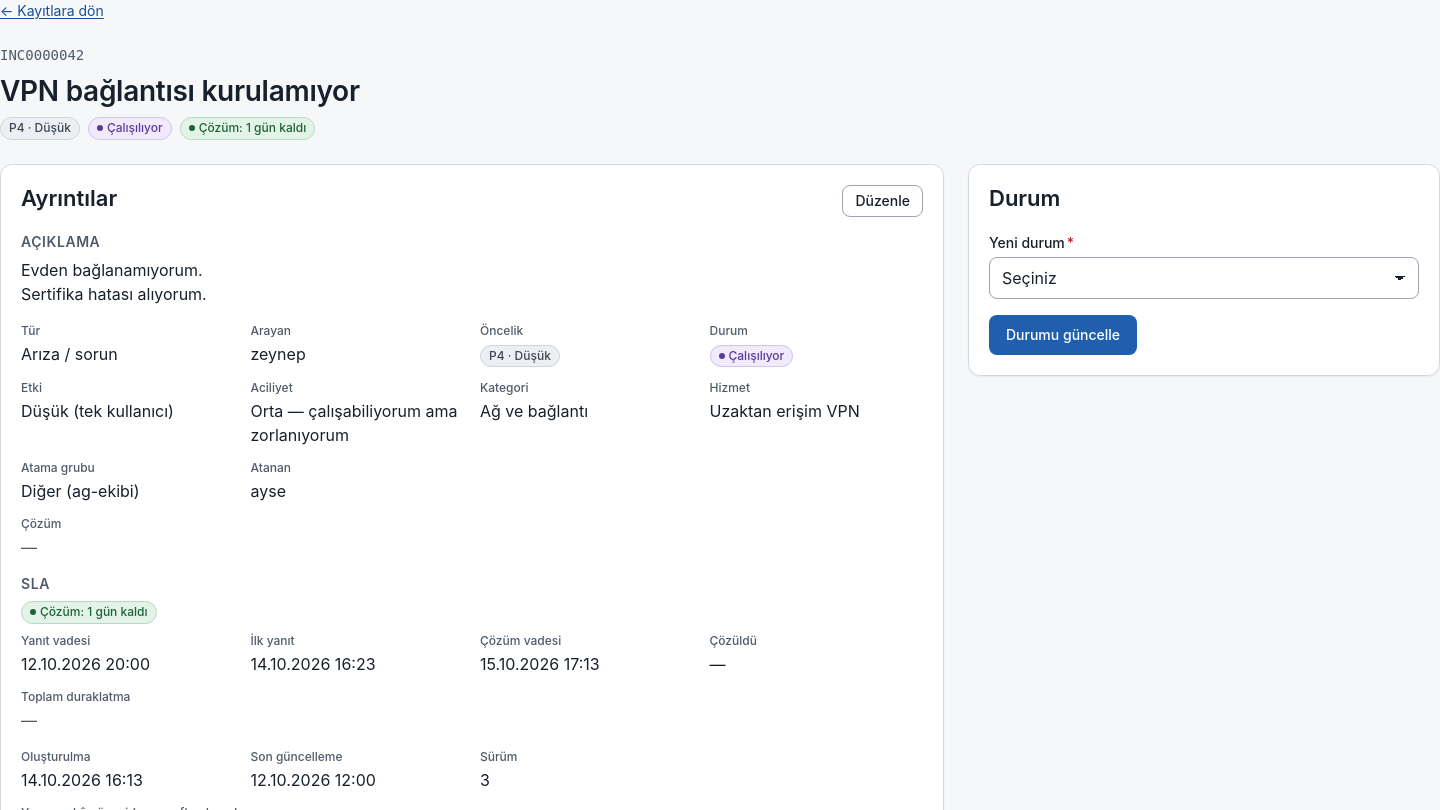
Test case: IncidentDetailPage — düzenleme (optimistik kilit) › 409: "kayıt başkası tarafından değişti" penceresi ve güncel kaydı yükleme
Click the button "Düzenle" at (883, 201), box [842,185,923,217]
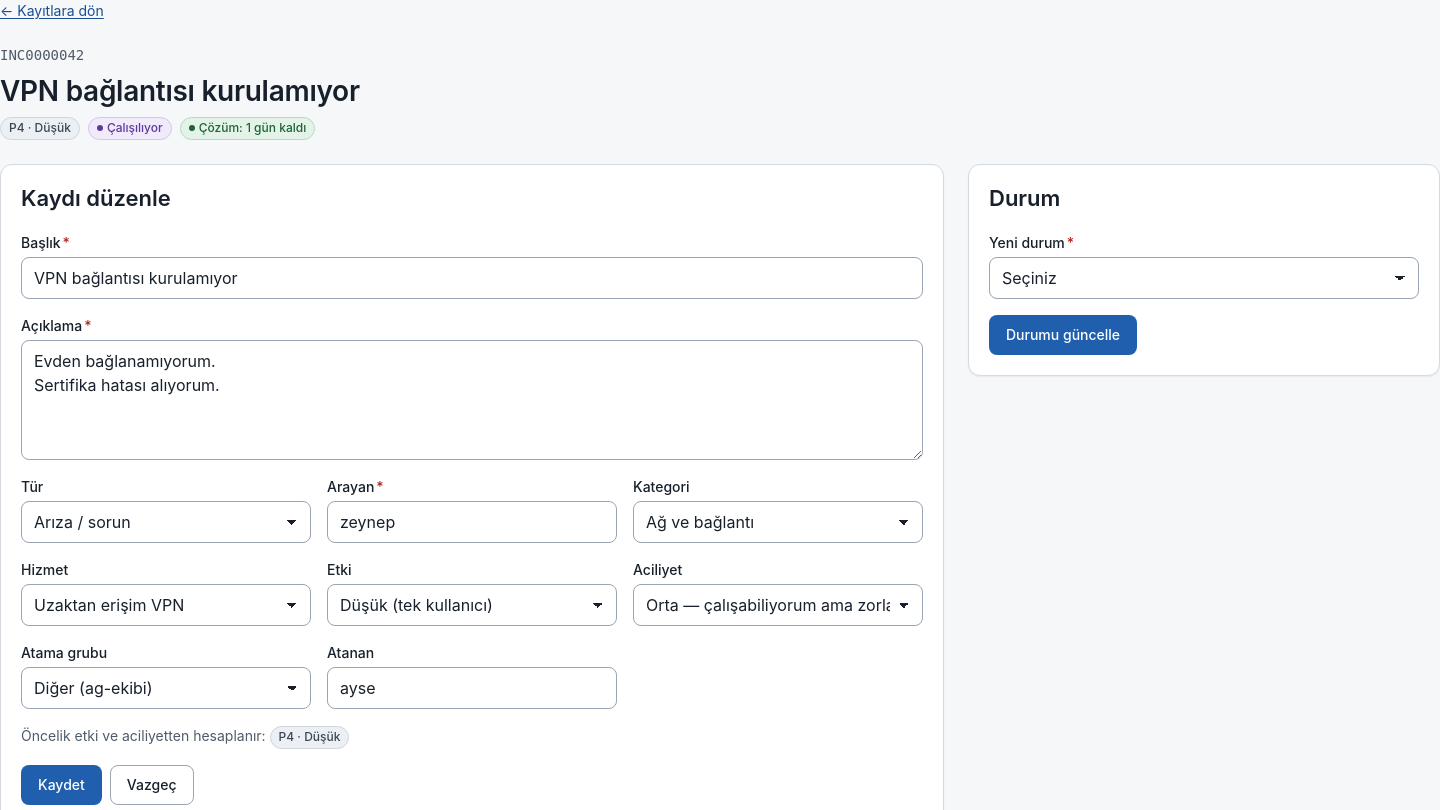
Select "Yüksek — işim tamamen durdu" in the dropdown labelled "Aciliyet" at (778, 605), box [633,584,923,626]
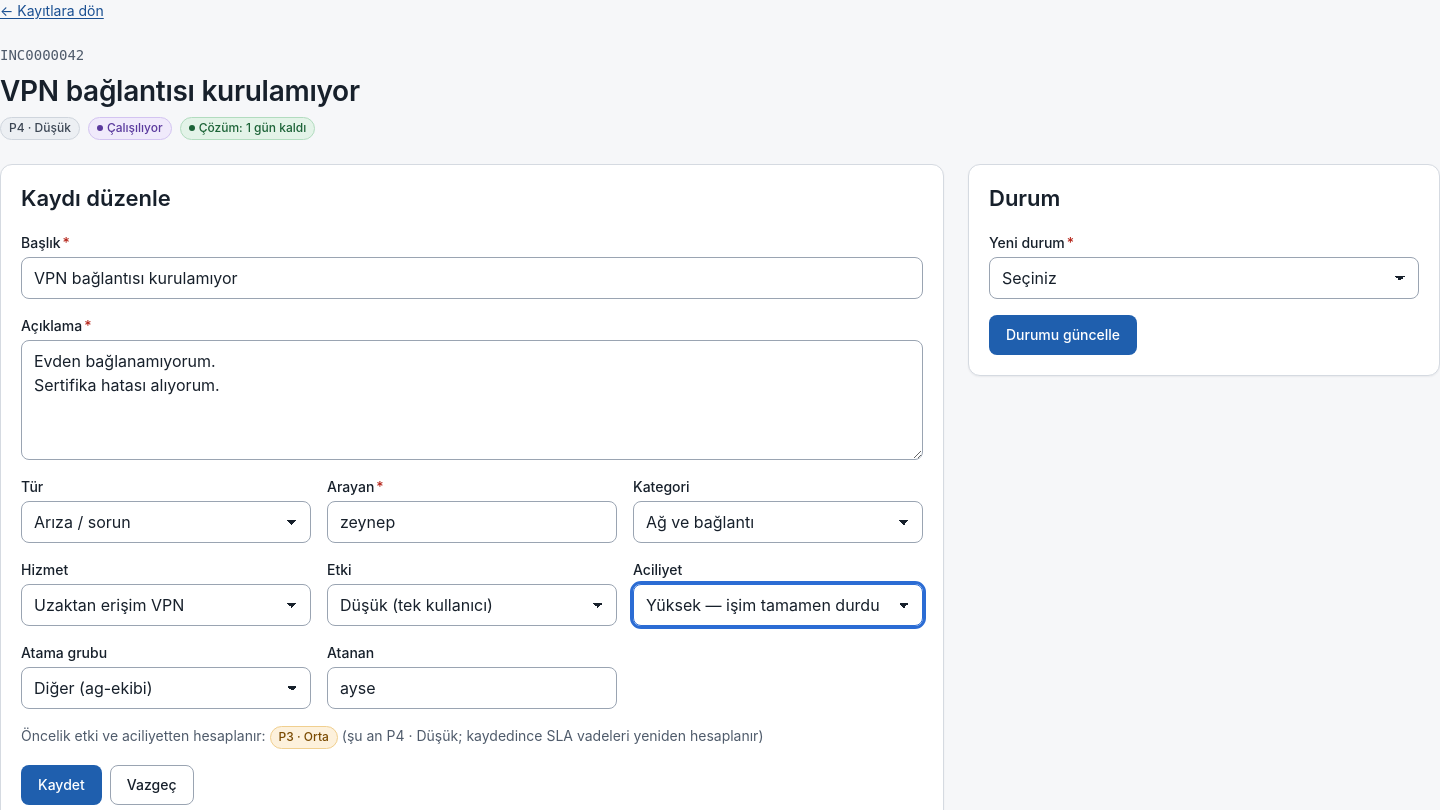
Click the button "Kaydet" at (61, 785), box [21,765,102,805]
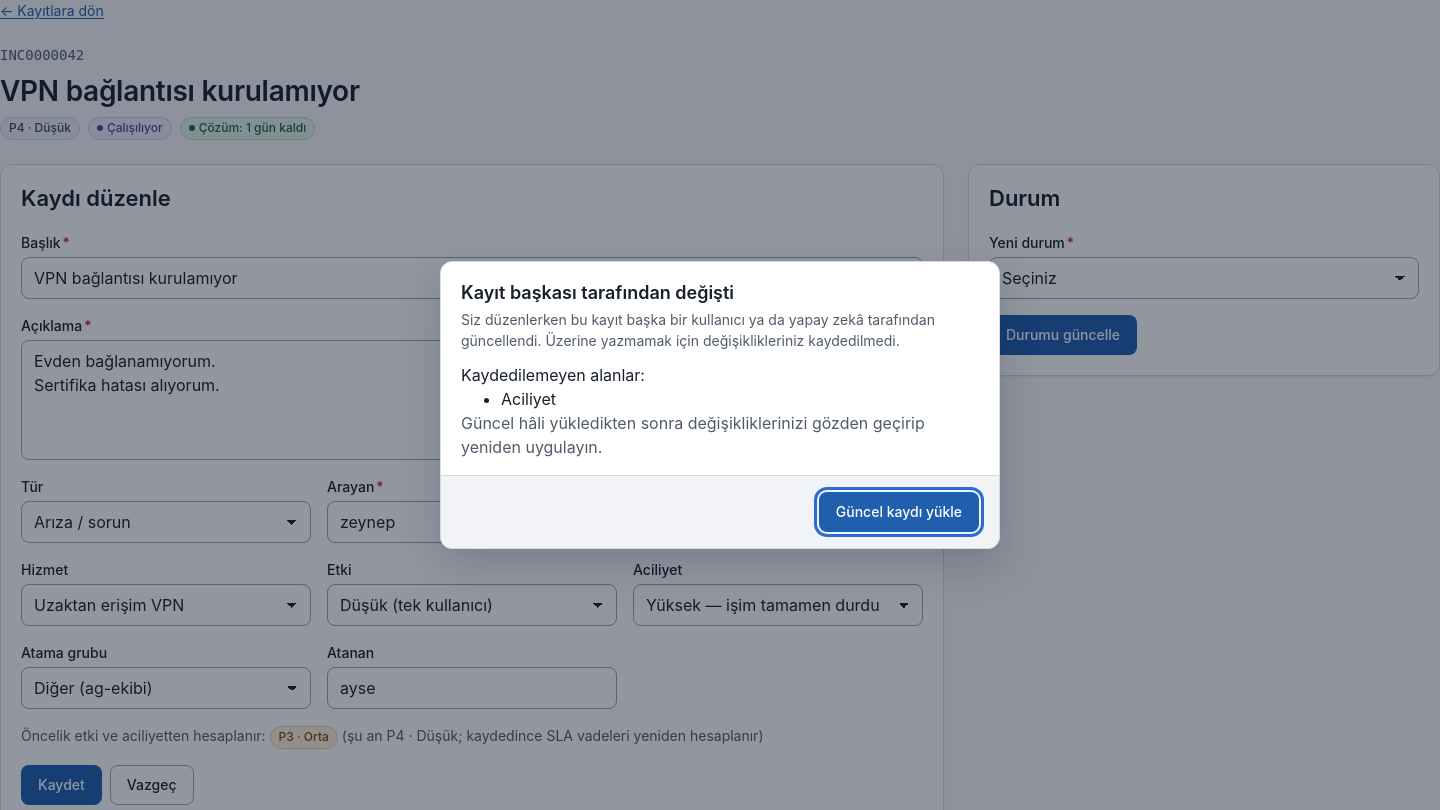
Now the list item "Aciliyet" is shown, box [501,389,556,409]
Click the button "Güncel kaydı yükle" at (899, 512), box [819,492,979,532]
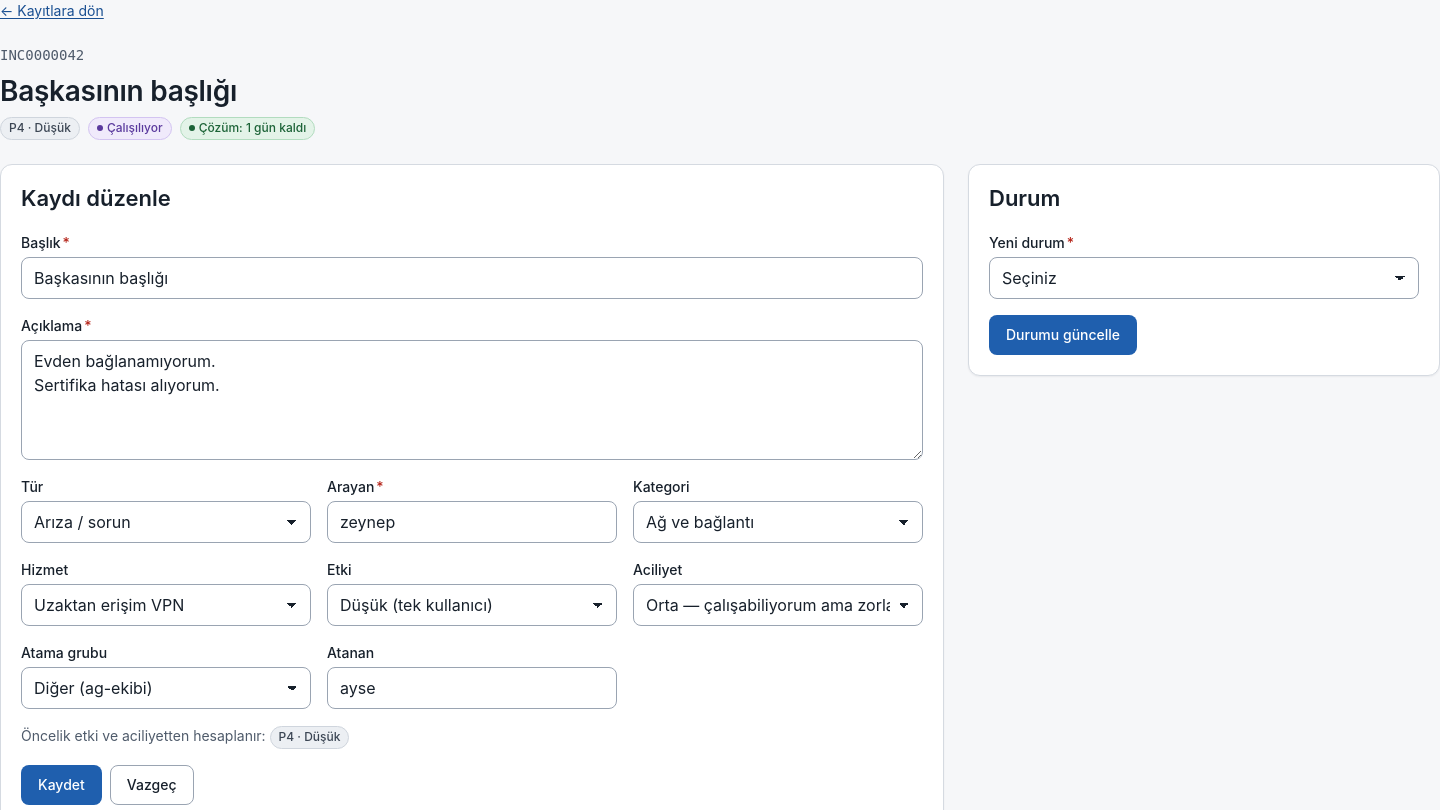
Now the dialog is gone
Now the field labelled "Başlık*" holds "Başkasının başlığı", box [21,257,923,299]
Select "Yüksek — işim tamamen durdu" in the dropdown labelled "Aciliyet" at (778, 605), box [633,584,923,626]
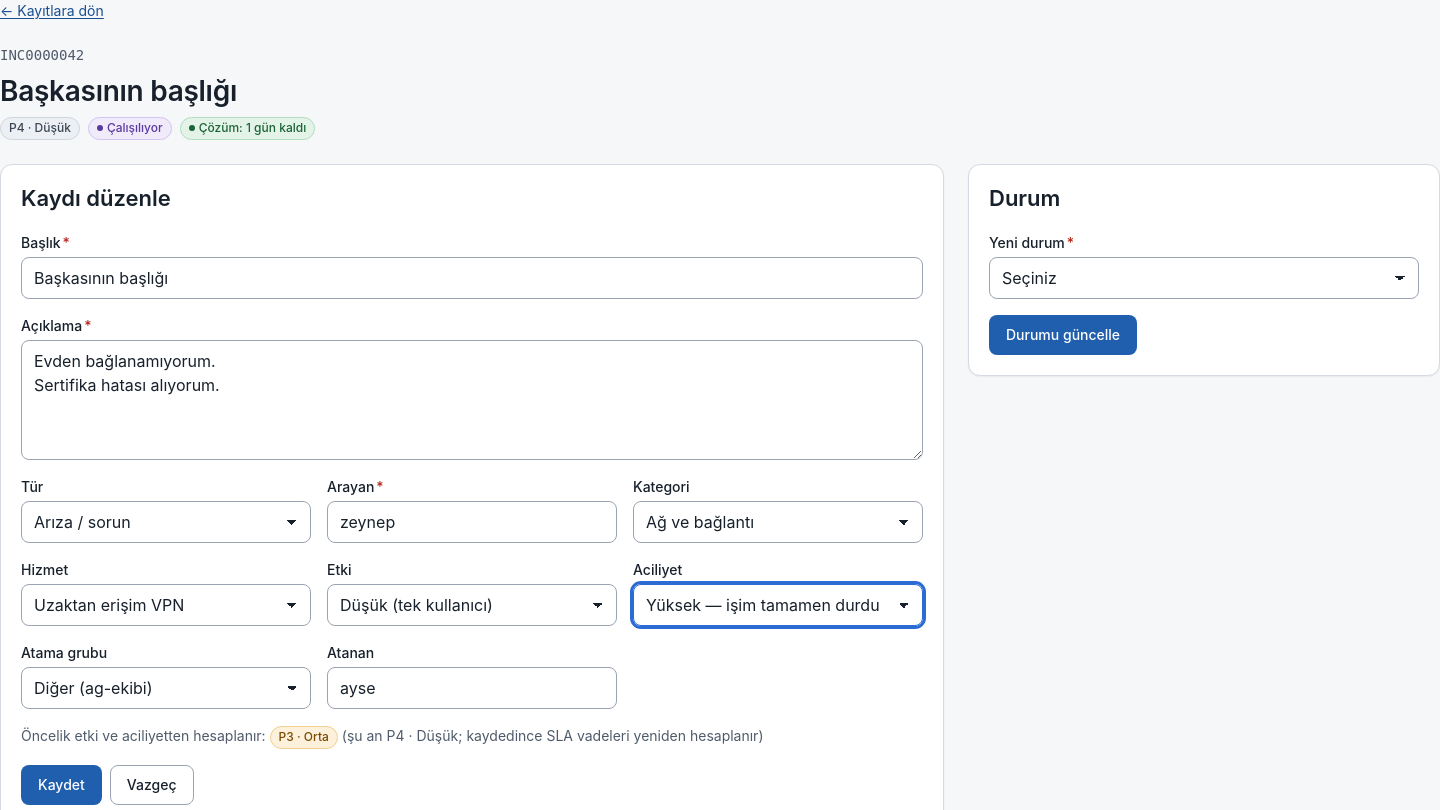
Click the button "Kaydet" at (61, 785), box [21,765,102,805]
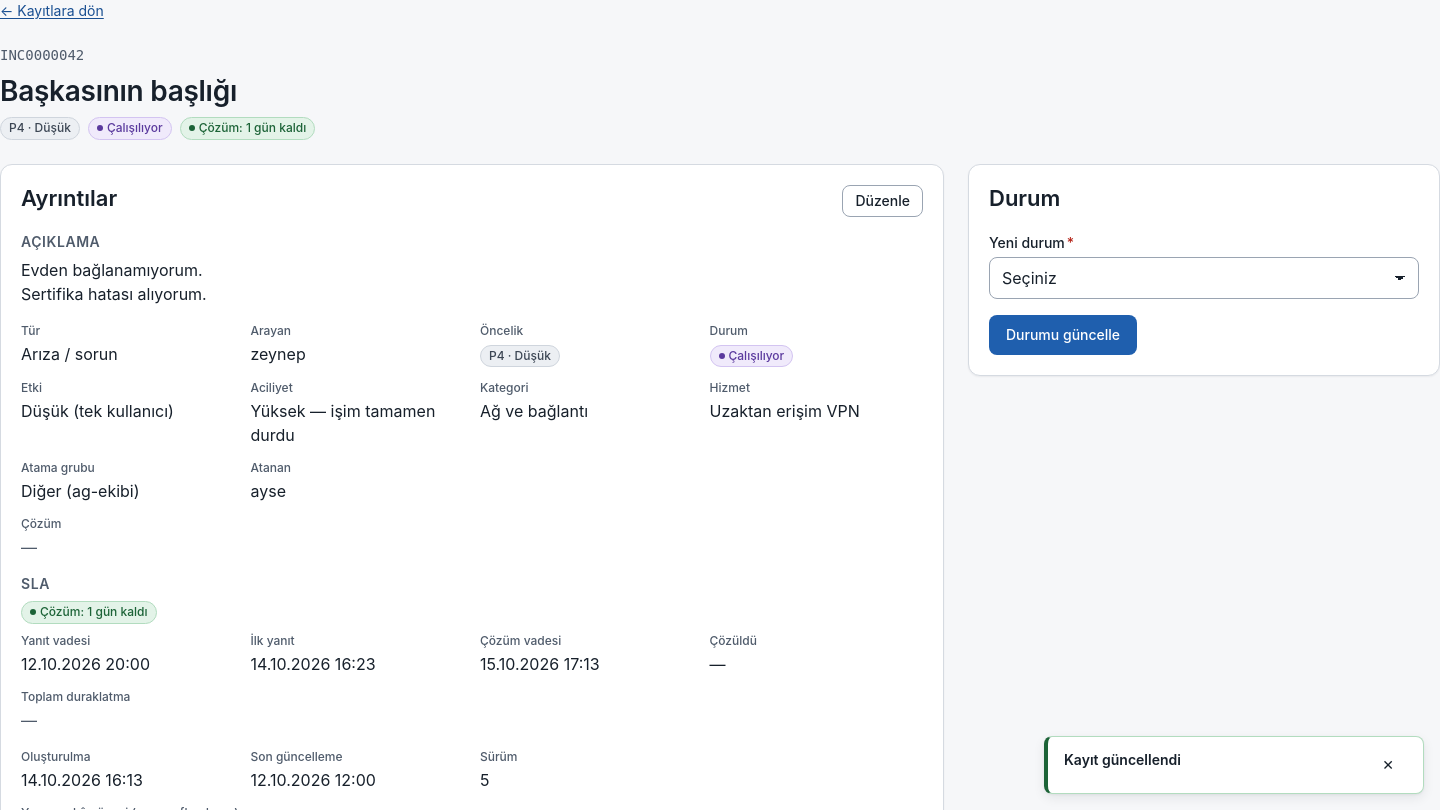
Now the text "Kayıt güncellendi" is shown, box [1064,751,1181,768]
